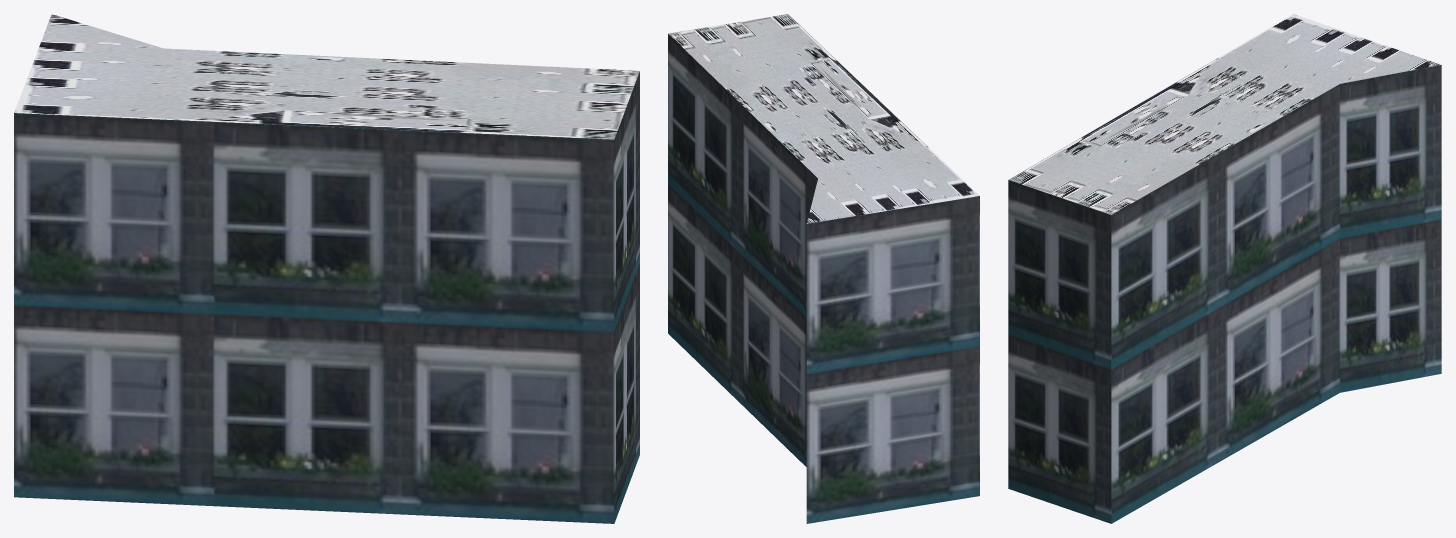
Rendered from ResTex__1084.fbx.
3 renders of one model, left to right at view 1: azimuth 30°, elevation 25°; view 2: azimuth 150°, elevation 25°; view 3: azimuth 270°, elevation 25°, orthographic. The views are drawn at different scales.
Visible parts, largest first — view 1: CityEngineMaterial_11_m, CityEngineMaterial_m; view 2: CityEngineMaterial_11_m, CityEngineMaterial_m; view 3: CityEngineMaterial_11_m, CityEngineMaterial_m.
Boxes of the visible parts, x1=… form: CityEngineMaterial_11_m: x1=14, y1=71, x2=639, y2=523; CityEngineMaterial_m: x1=14, y1=14, x2=639, y2=139; CityEngineMaterial_11_m: x1=668, y1=34, x2=979, y2=523; CityEngineMaterial_m: x1=668, y1=14, x2=979, y2=223; CityEngineMaterial_11_m: x1=1008, y1=65, x2=1441, y2=523; CityEngineMaterial_m: x1=1008, y1=14, x2=1441, y2=214.
Bounding box in the file's own units: 8.37 × 6 × 7.63.
2 materials, 2 textured.
